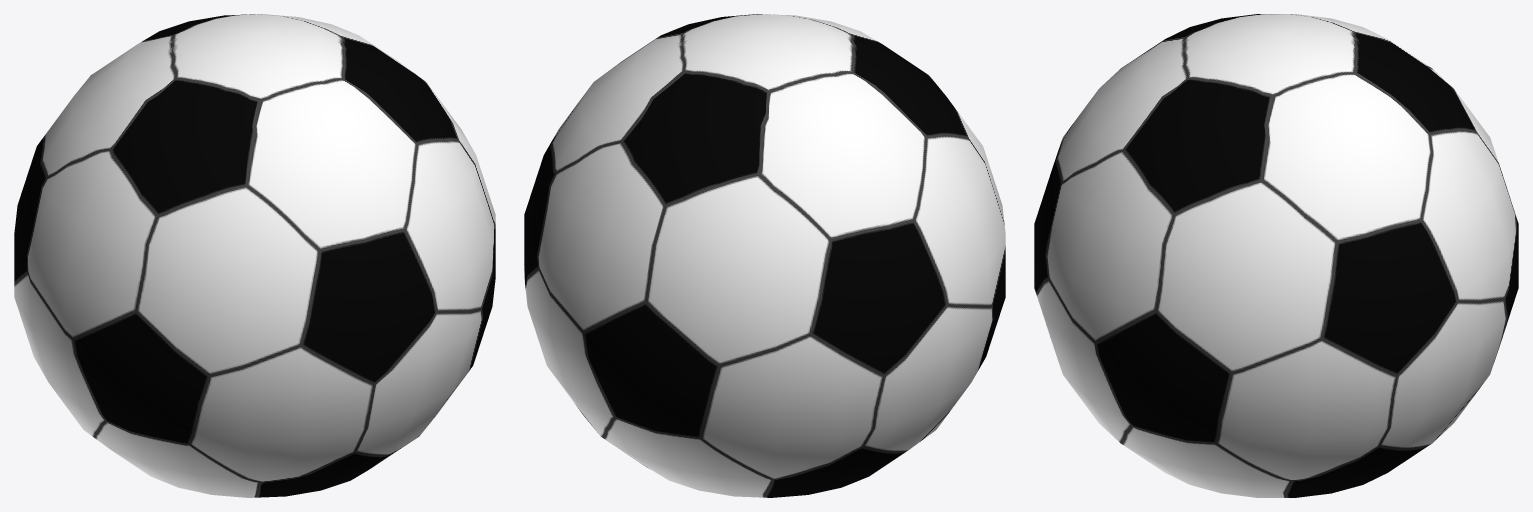
File: ball.FBX
3 renders of one model, left to right at view 1: azimuth 30°, elevation 25°; view 2: azimuth 150°, elevation 25°; view 3: azimuth 270°, elevation 25°, orthographic.
Parts seen in each view (by area): view 1: Sphere001; view 2: Sphere001; view 3: Sphere001.
Part boxes in pixels (x1,y1,x2,y2): Sphere001: (14,14,495,497); Sphere001: (524,14,1005,497); Sphere001: (1034,14,1518,497).
Bounding box in the file's own units: 196 × 200 × 198.
1 material, 1 textured.
